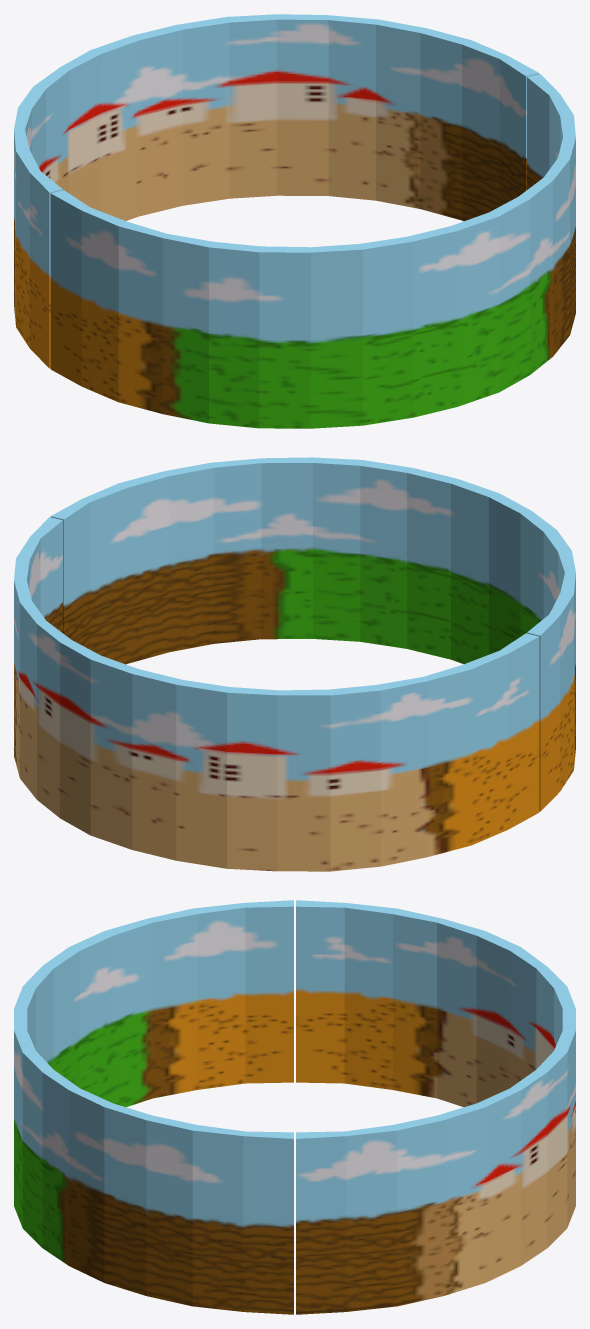
File: Teri.glb
The picture shows the model from 3 angles, top to bottom: view 1: azimuth 30°, elevation 25°; view 2: azimuth 150°, elevation 25°; view 3: azimuth 270°, elevation 25°; orthographic projection.
Parts seen in each view (by area): view 1: Teri; view 2: Teri; view 3: Teri.
Boxes of the visible parts, x1,y1,x2,y2 form: Teri: (14,14,575,428); Teri: (14,457,575,871); Teri: (14,900,575,1314).
Bounding box in the file's own units: 379 × 130 × 377.
1 material, 1 textured.
